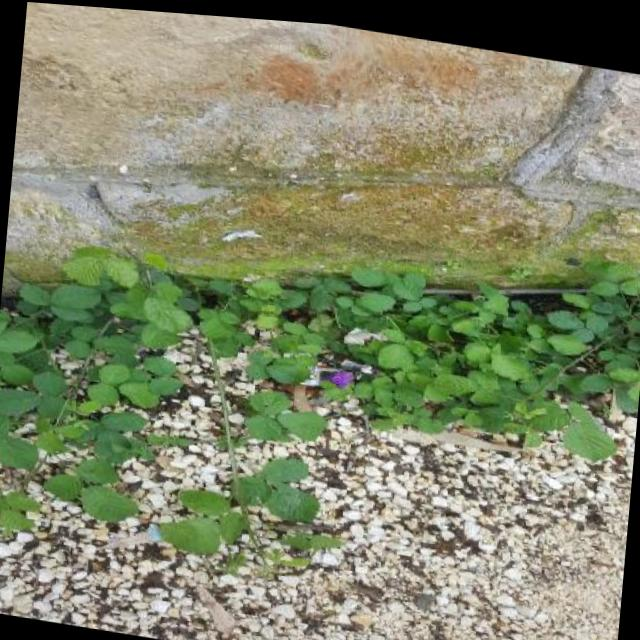plastic: (272, 302, 317, 406), (318, 367, 345, 417)
